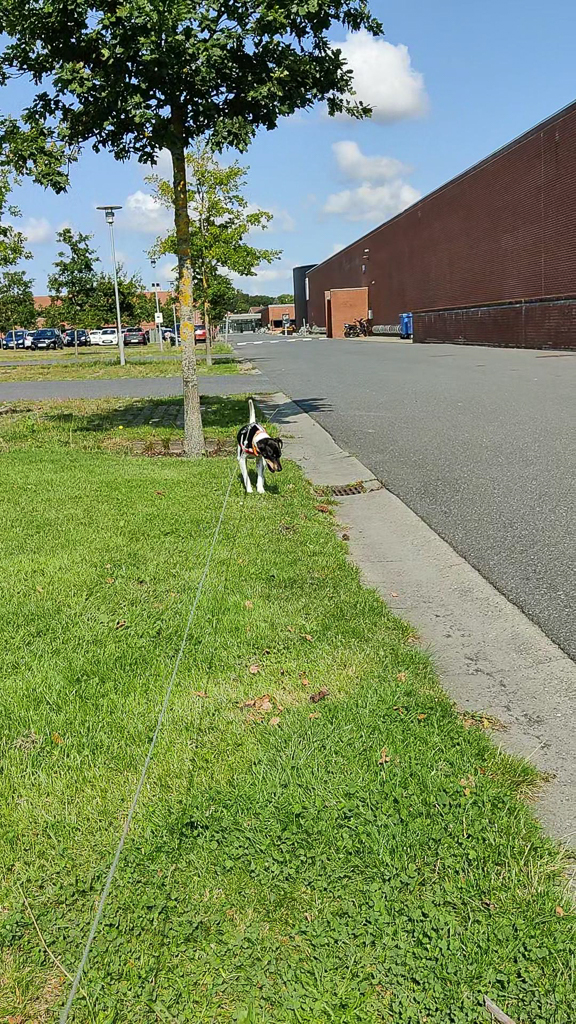Dog: (220, 391, 290, 500)
